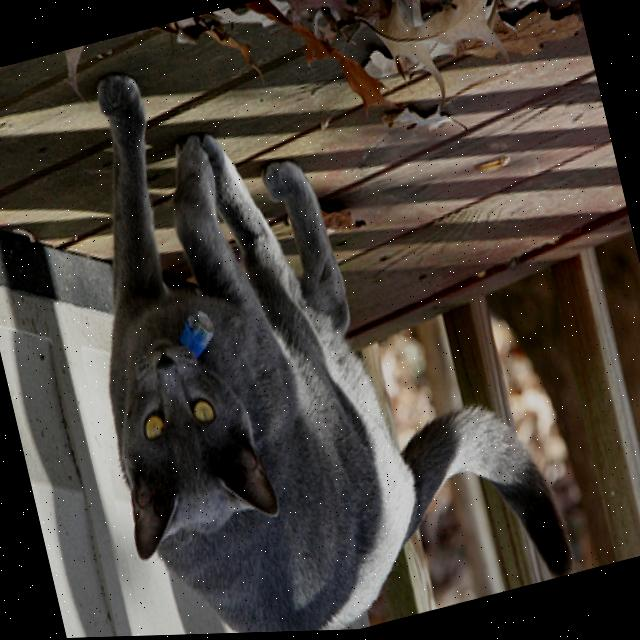Russian Blue: (26, 0, 576, 639)
